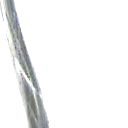crackTip: (1, 1, 55, 128)
